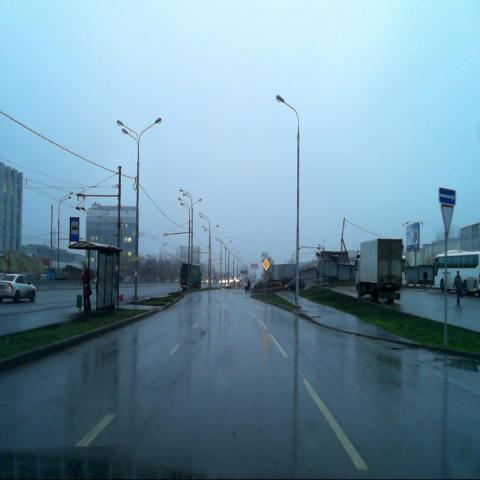5_7_1: (438, 186, 456, 204)
